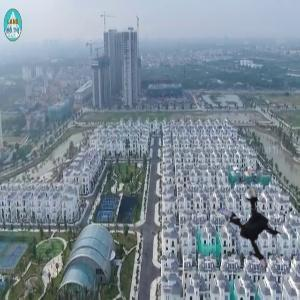drone: (203, 182, 292, 271)
